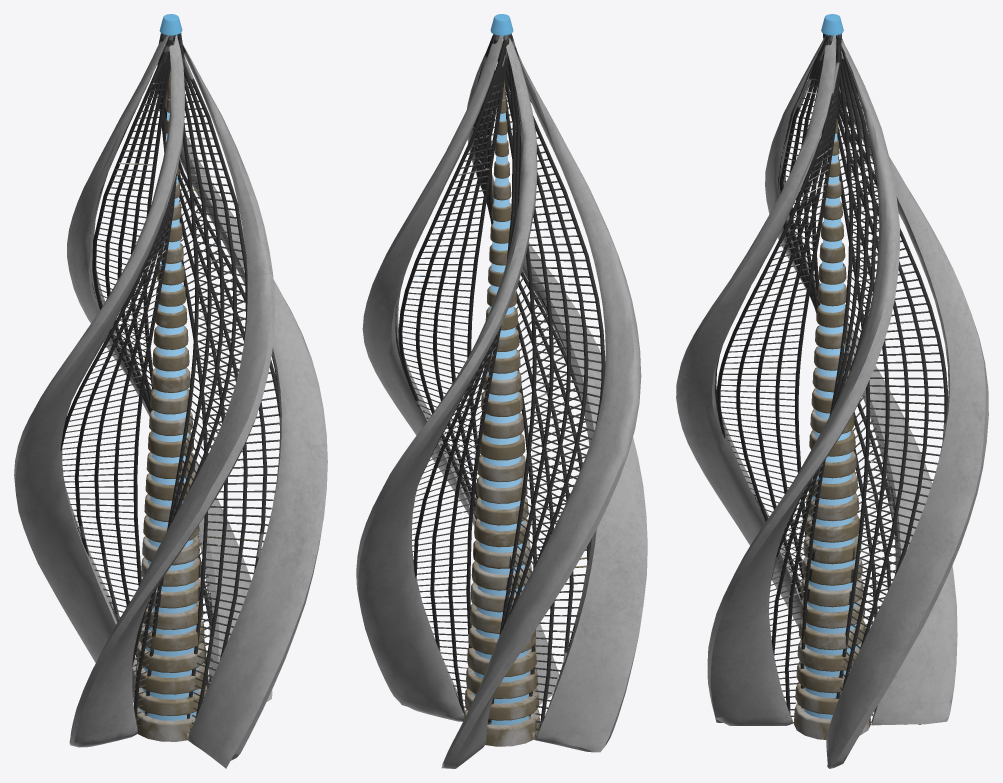
3 renders of one model, left to right at view 1: azimuth 30°, elevation 25°; view 2: azimuth 150°, elevation 25°; view 3: azimuth 270°, elevation 25°, orthographic.
Parts seen in each view (by area): view 1: base, pipes, base2, glass; view 2: base, pipes, base2, glass; view 3: base, pipes, base2, glass.
Part boxes in pixels (x1=…): base: x1=14, y1=34, x2=327, y2=768; pipes: x1=60, y1=33, x2=280, y2=726; base2: x1=134, y1=70, x2=207, y2=741; glass: x1=141, y1=99, x2=199, y2=720; base: x1=356, y1=35, x2=647, y2=768; pipes: x1=398, y1=33, x2=605, y2=737; base2: x1=464, y1=39, x2=539, y2=746; glass: x1=473, y1=99, x2=531, y2=725; base: x1=676, y1=34, x2=988, y2=768; pipes: x1=716, y1=33, x2=947, y2=724; base2: x1=794, y1=118, x2=870, y2=739; glass: x1=803, y1=133, x2=859, y2=719.
Bounding box in the file's own units: 80.87 × 202 × 80.96.
Materials: 1 (1 with a texture image).
